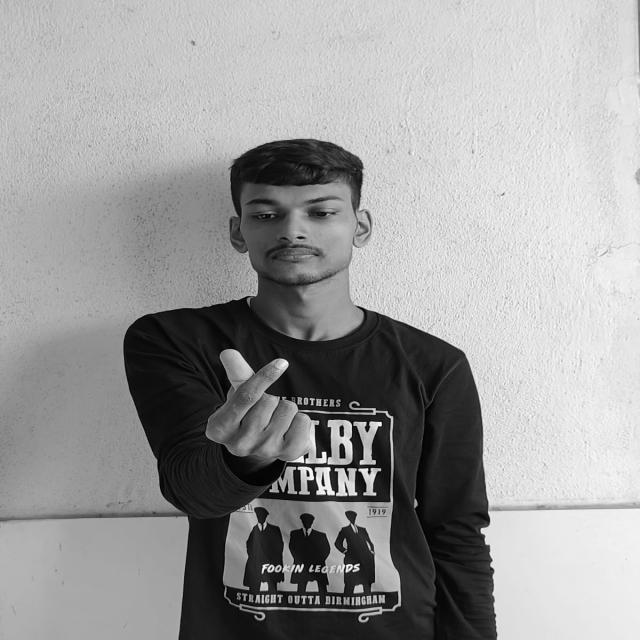Grattitude: (201, 346, 318, 466)
